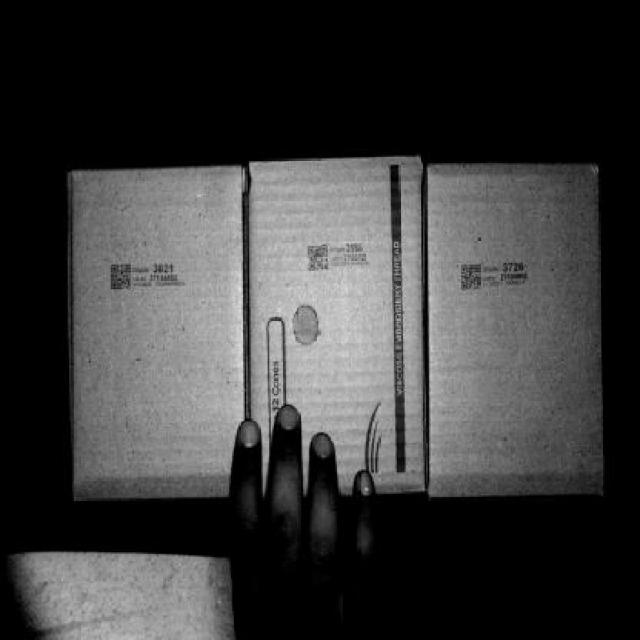cardboxes: (251, 162, 424, 498), (431, 165, 604, 497), (76, 172, 244, 497)
